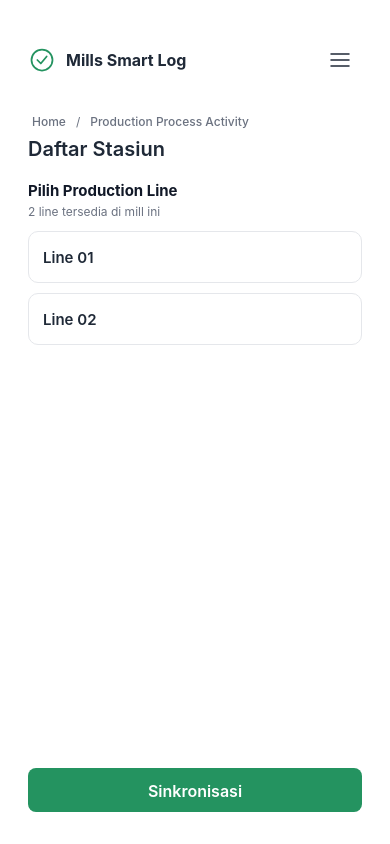
Test: StationListView — Production Line picker step › shows a Production Line switcher once a line is selected, when more than one line exists
Click the button with test id "production-line-option-pl-2": click(70, 319) [28,293,362,345]
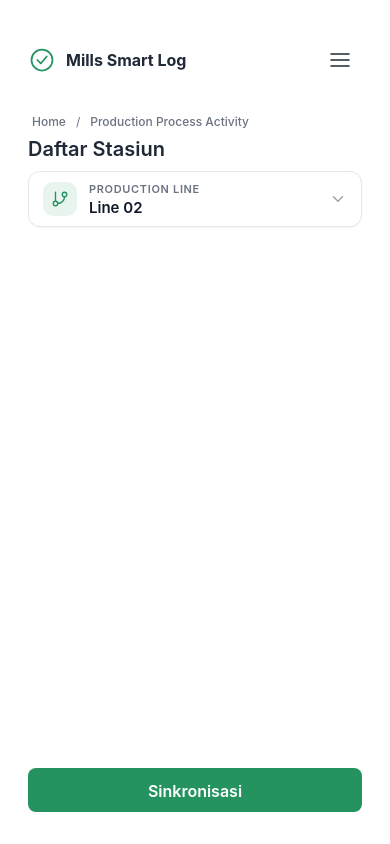
Result: the button with test id "production-line-switcher" shows "Line 02" at [28,171,362,227]
